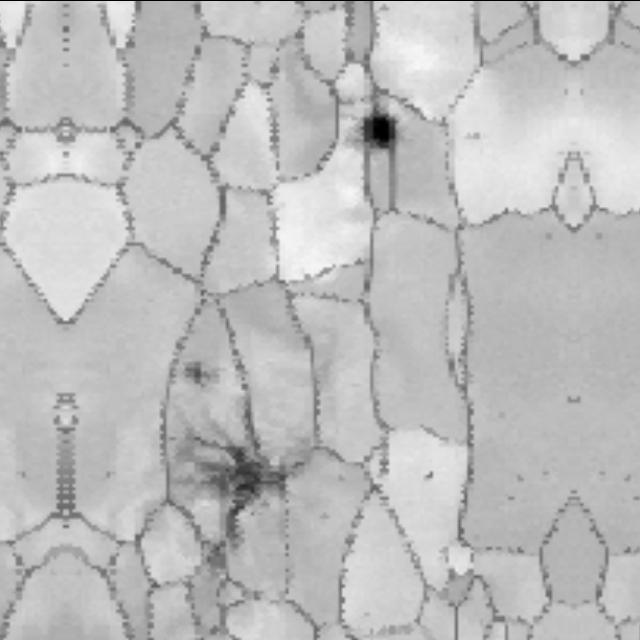good_void: (155, 414, 312, 565), (346, 106, 401, 162), (177, 357, 227, 396), (463, 128, 483, 146), (417, 464, 434, 484), (573, 394, 585, 406), (562, 394, 573, 406)
